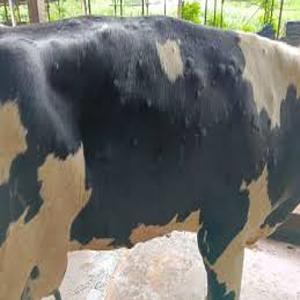lumpy skin diesease: (0, 13, 299, 299)
